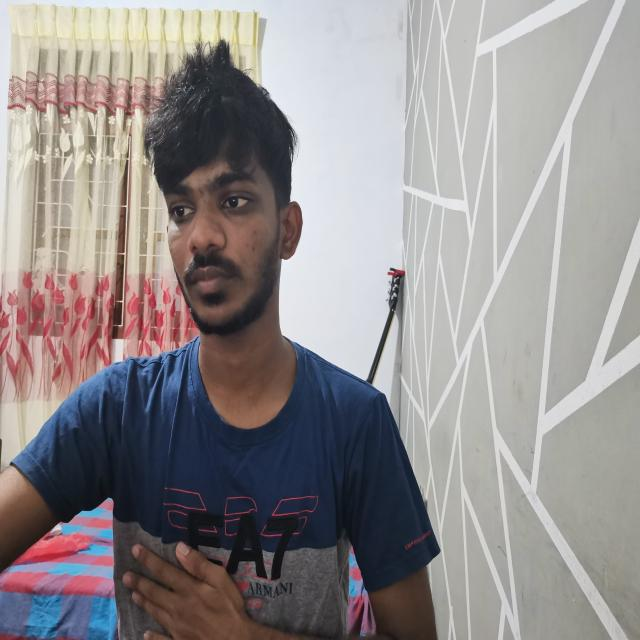Please: (121, 526, 445, 640)
